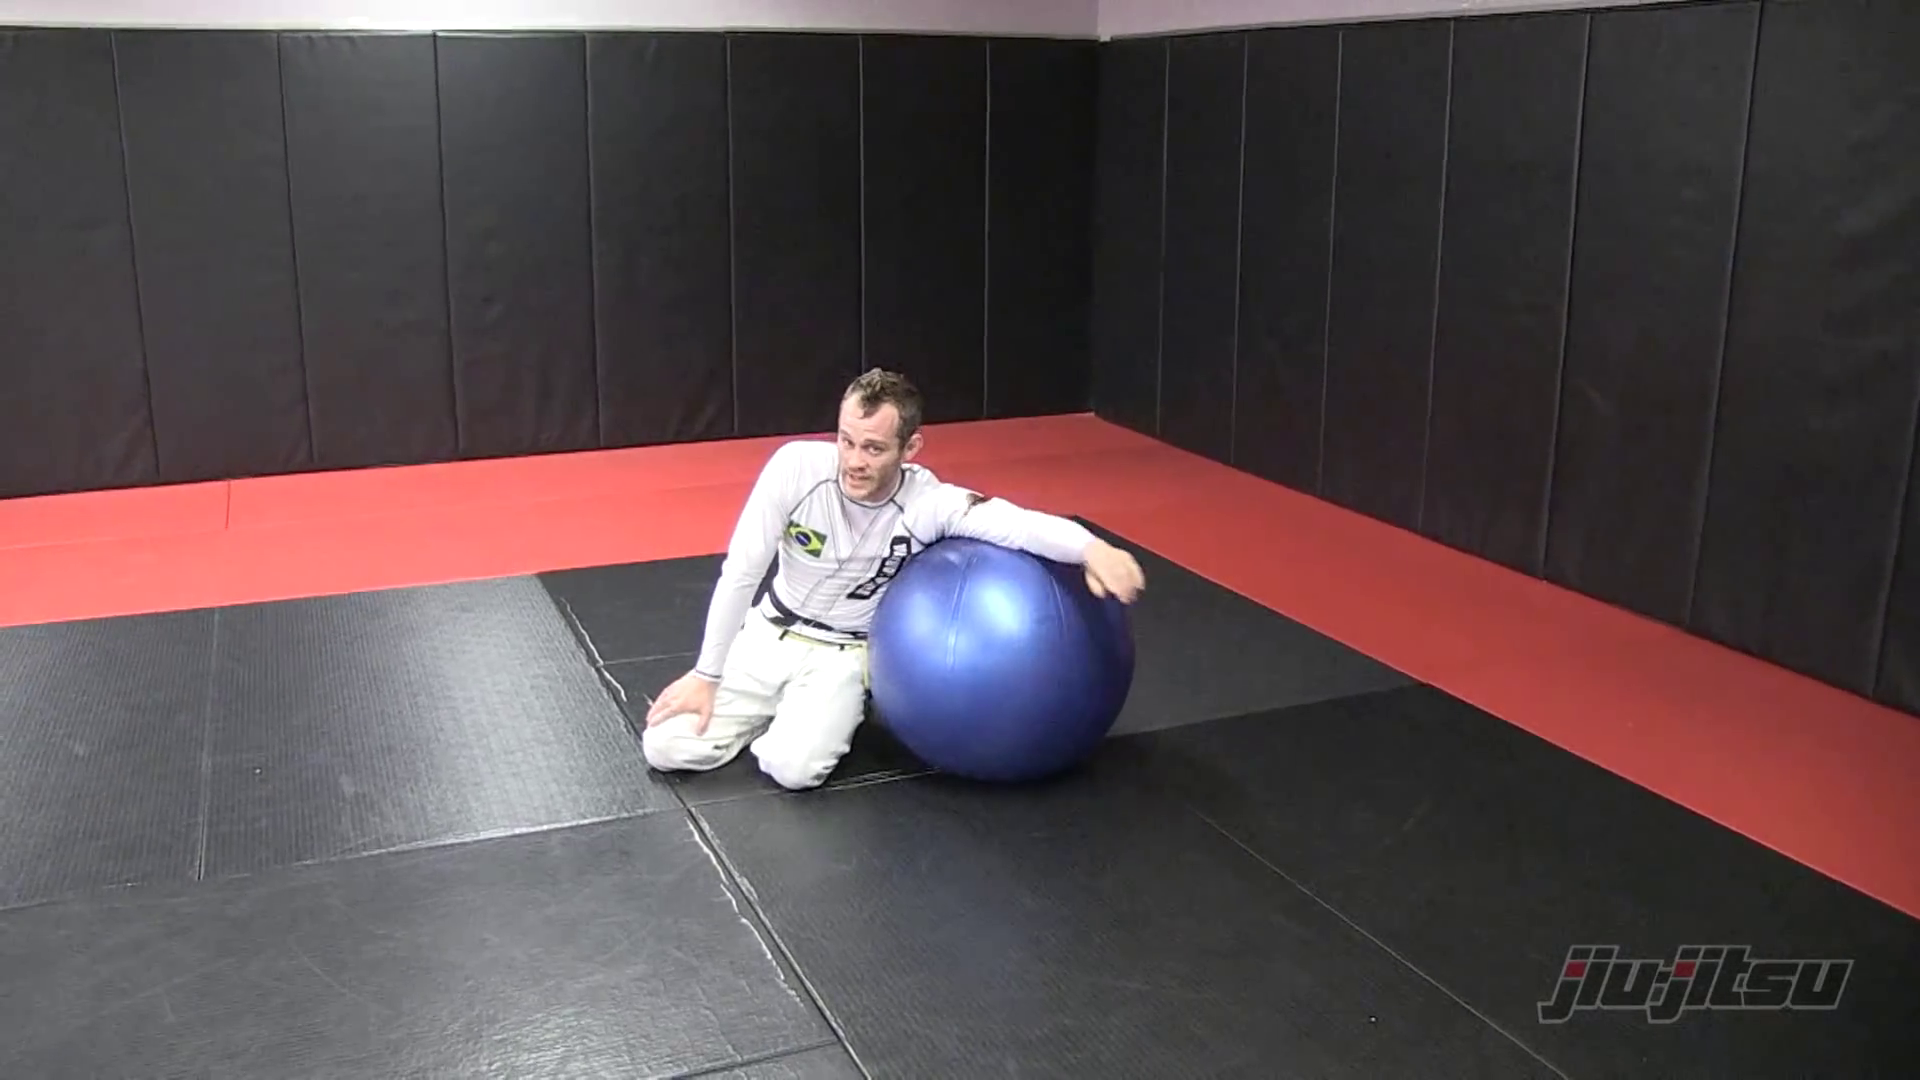yogaball: (855, 530, 1160, 811)
